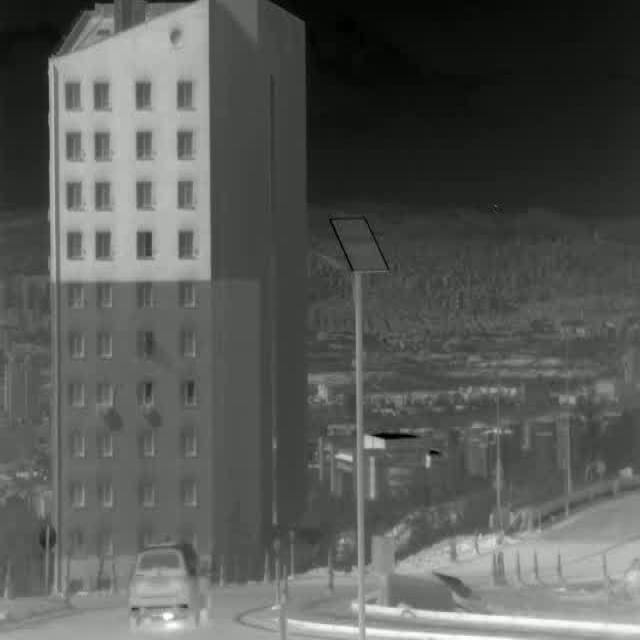Car: (128, 539, 207, 634)
